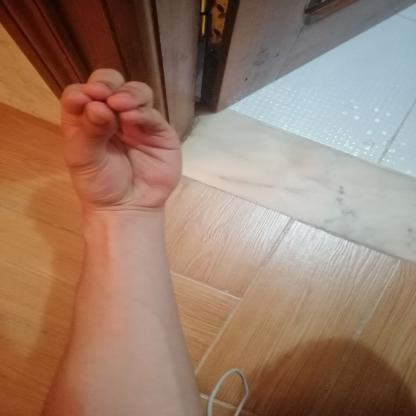HA: (36, 58, 204, 226)
